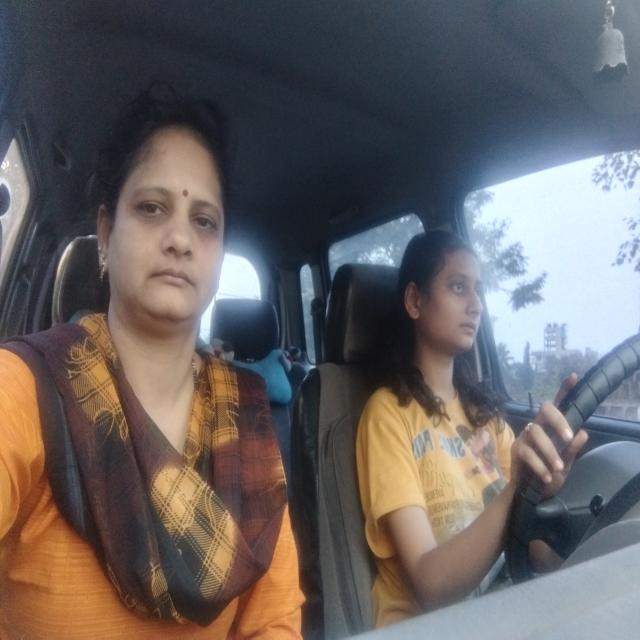person: (94, 103, 230, 324), (403, 225, 492, 358)
